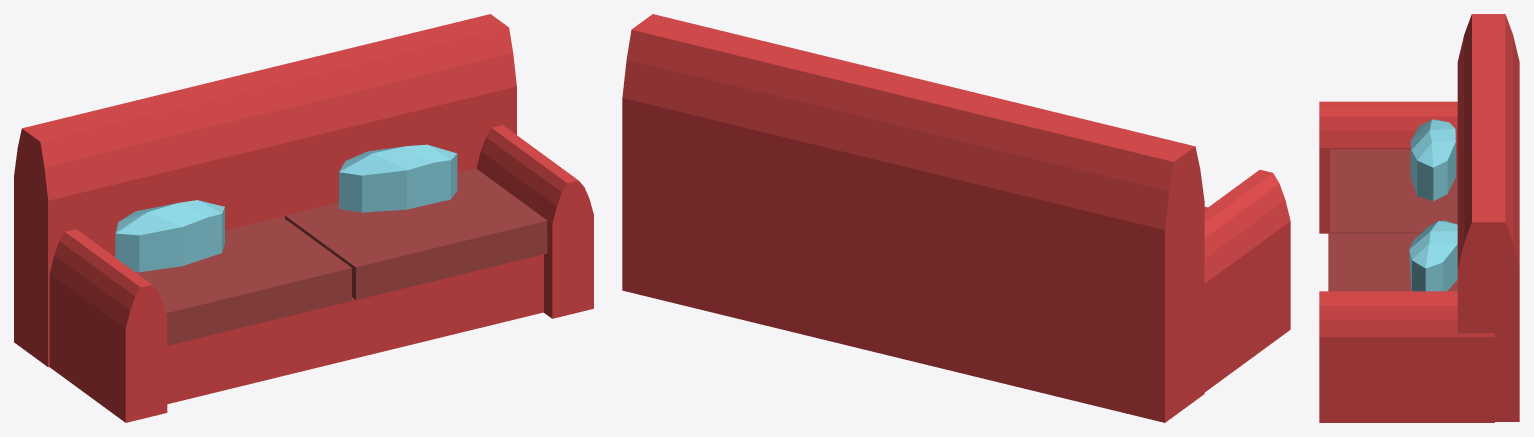
File: sillon.fbx
The picture shows the model from 3 angles, left to right: view 1: azimuth 30°, elevation 25°; view 2: azimuth 150°, elevation 25°; view 3: azimuth 270°, elevation 25°; orthographic projection. The views are drawn at different scales.
Parts seen in each view (by area): view 1: Cilindro, Cubo.001, Cubo, Cilindro.002, Cilindro.001; view 2: Cilindro; view 3: Cilindro, Cubo, Cubo.001, Cilindro.001, Cilindro.002.
Boxes of the visible parts, x1=… form: Cilindro: x1=14, y1=14, x2=593, y2=422; Cubo.001: x1=285, y1=168, x2=547, y2=299; Cubo: x1=135, y1=216, x2=351, y2=345; Cilindro.002: x1=339, y1=144, x2=457, y2=212; Cilindro.001: x1=115, y1=200, x2=224, y2=272; Cilindro: x1=622, y1=14, x2=1290, y2=422; Cilindro: x1=1319, y1=14, x2=1519, y2=422; Cubo: x1=1330, y1=149, x2=1457, y2=233; Cubo.001: x1=1328, y1=233, x2=1457, y2=291; Cilindro.001: x1=1410, y1=119, x2=1455, y2=201; Cilindro.002: x1=1409, y1=220, x2=1457, y2=291.
Bounding box in the file's own units: 178 × 79.75 × 72.31.
